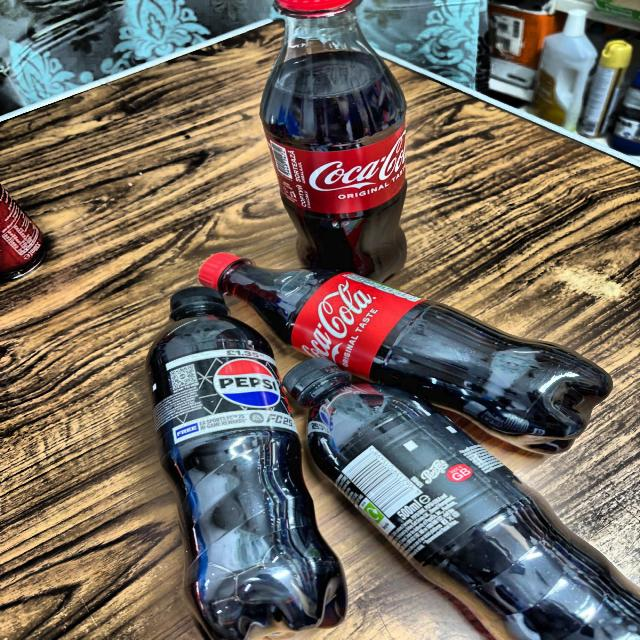coke-bottle: (205, 244, 619, 468), (224, 0, 432, 286)
pepsi-bottle: (296, 348, 640, 640), (149, 258, 352, 632)
